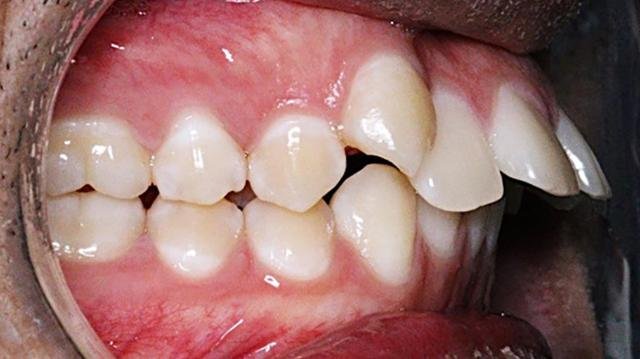canine class II 3/4: (240, 44, 456, 290)
molar class II 3/4: (39, 113, 155, 266)
